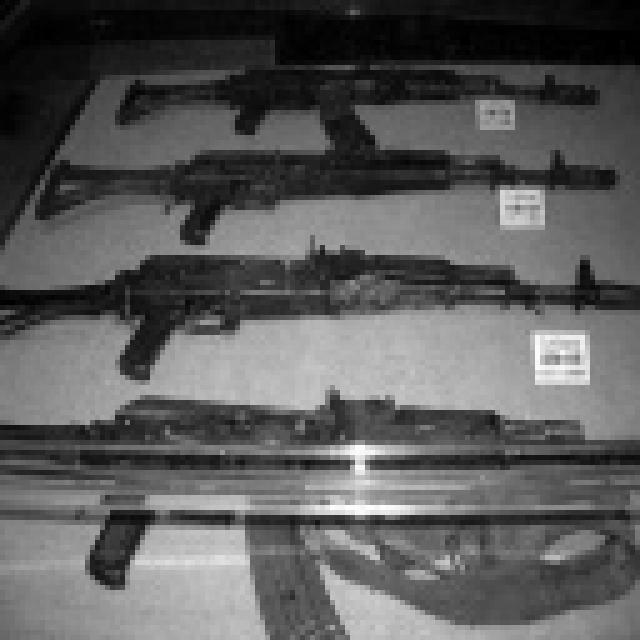Rifle: (0, 317, 640, 640), (0, 190, 640, 414), (0, 81, 640, 268), (73, 28, 623, 177)
